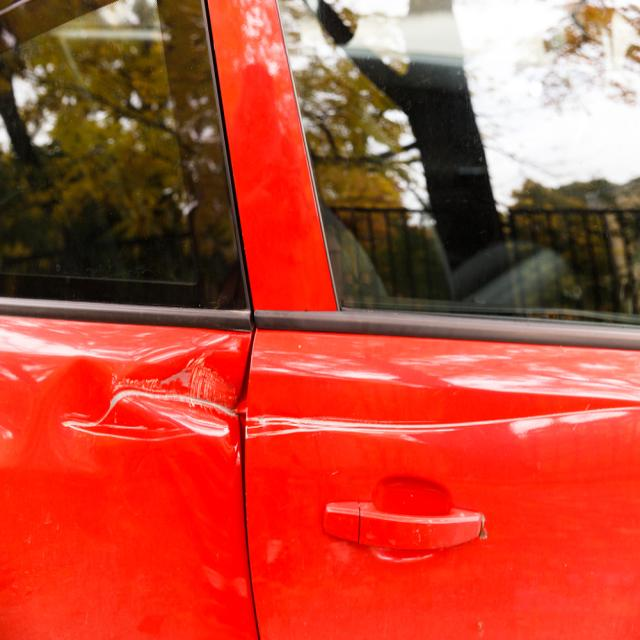dent: (0, 356, 238, 465)
scratch: (242, 412, 561, 440)
